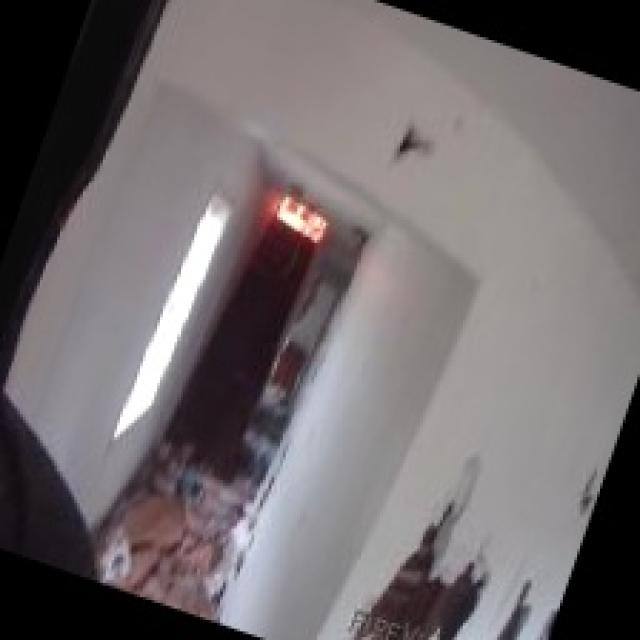fire: (250, 170, 347, 264)
